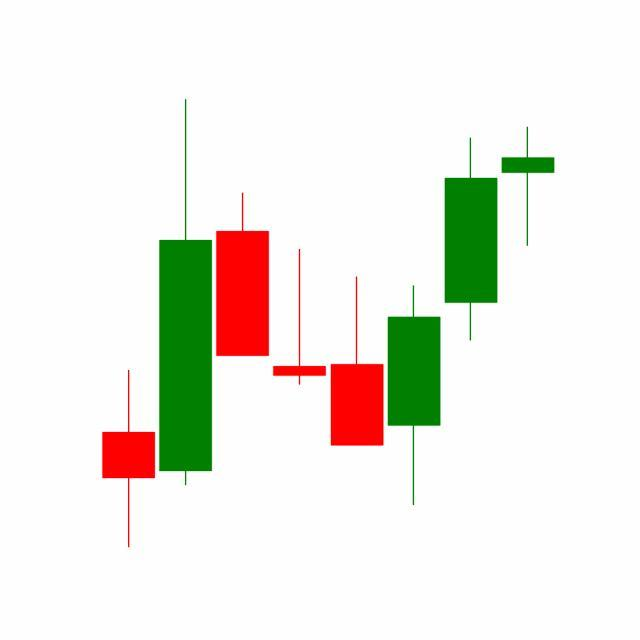Hikkake Pattern: (214, 134, 501, 511)
